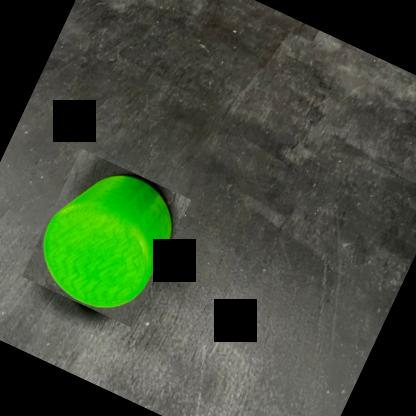green cylinder: (21, 149, 190, 328)
